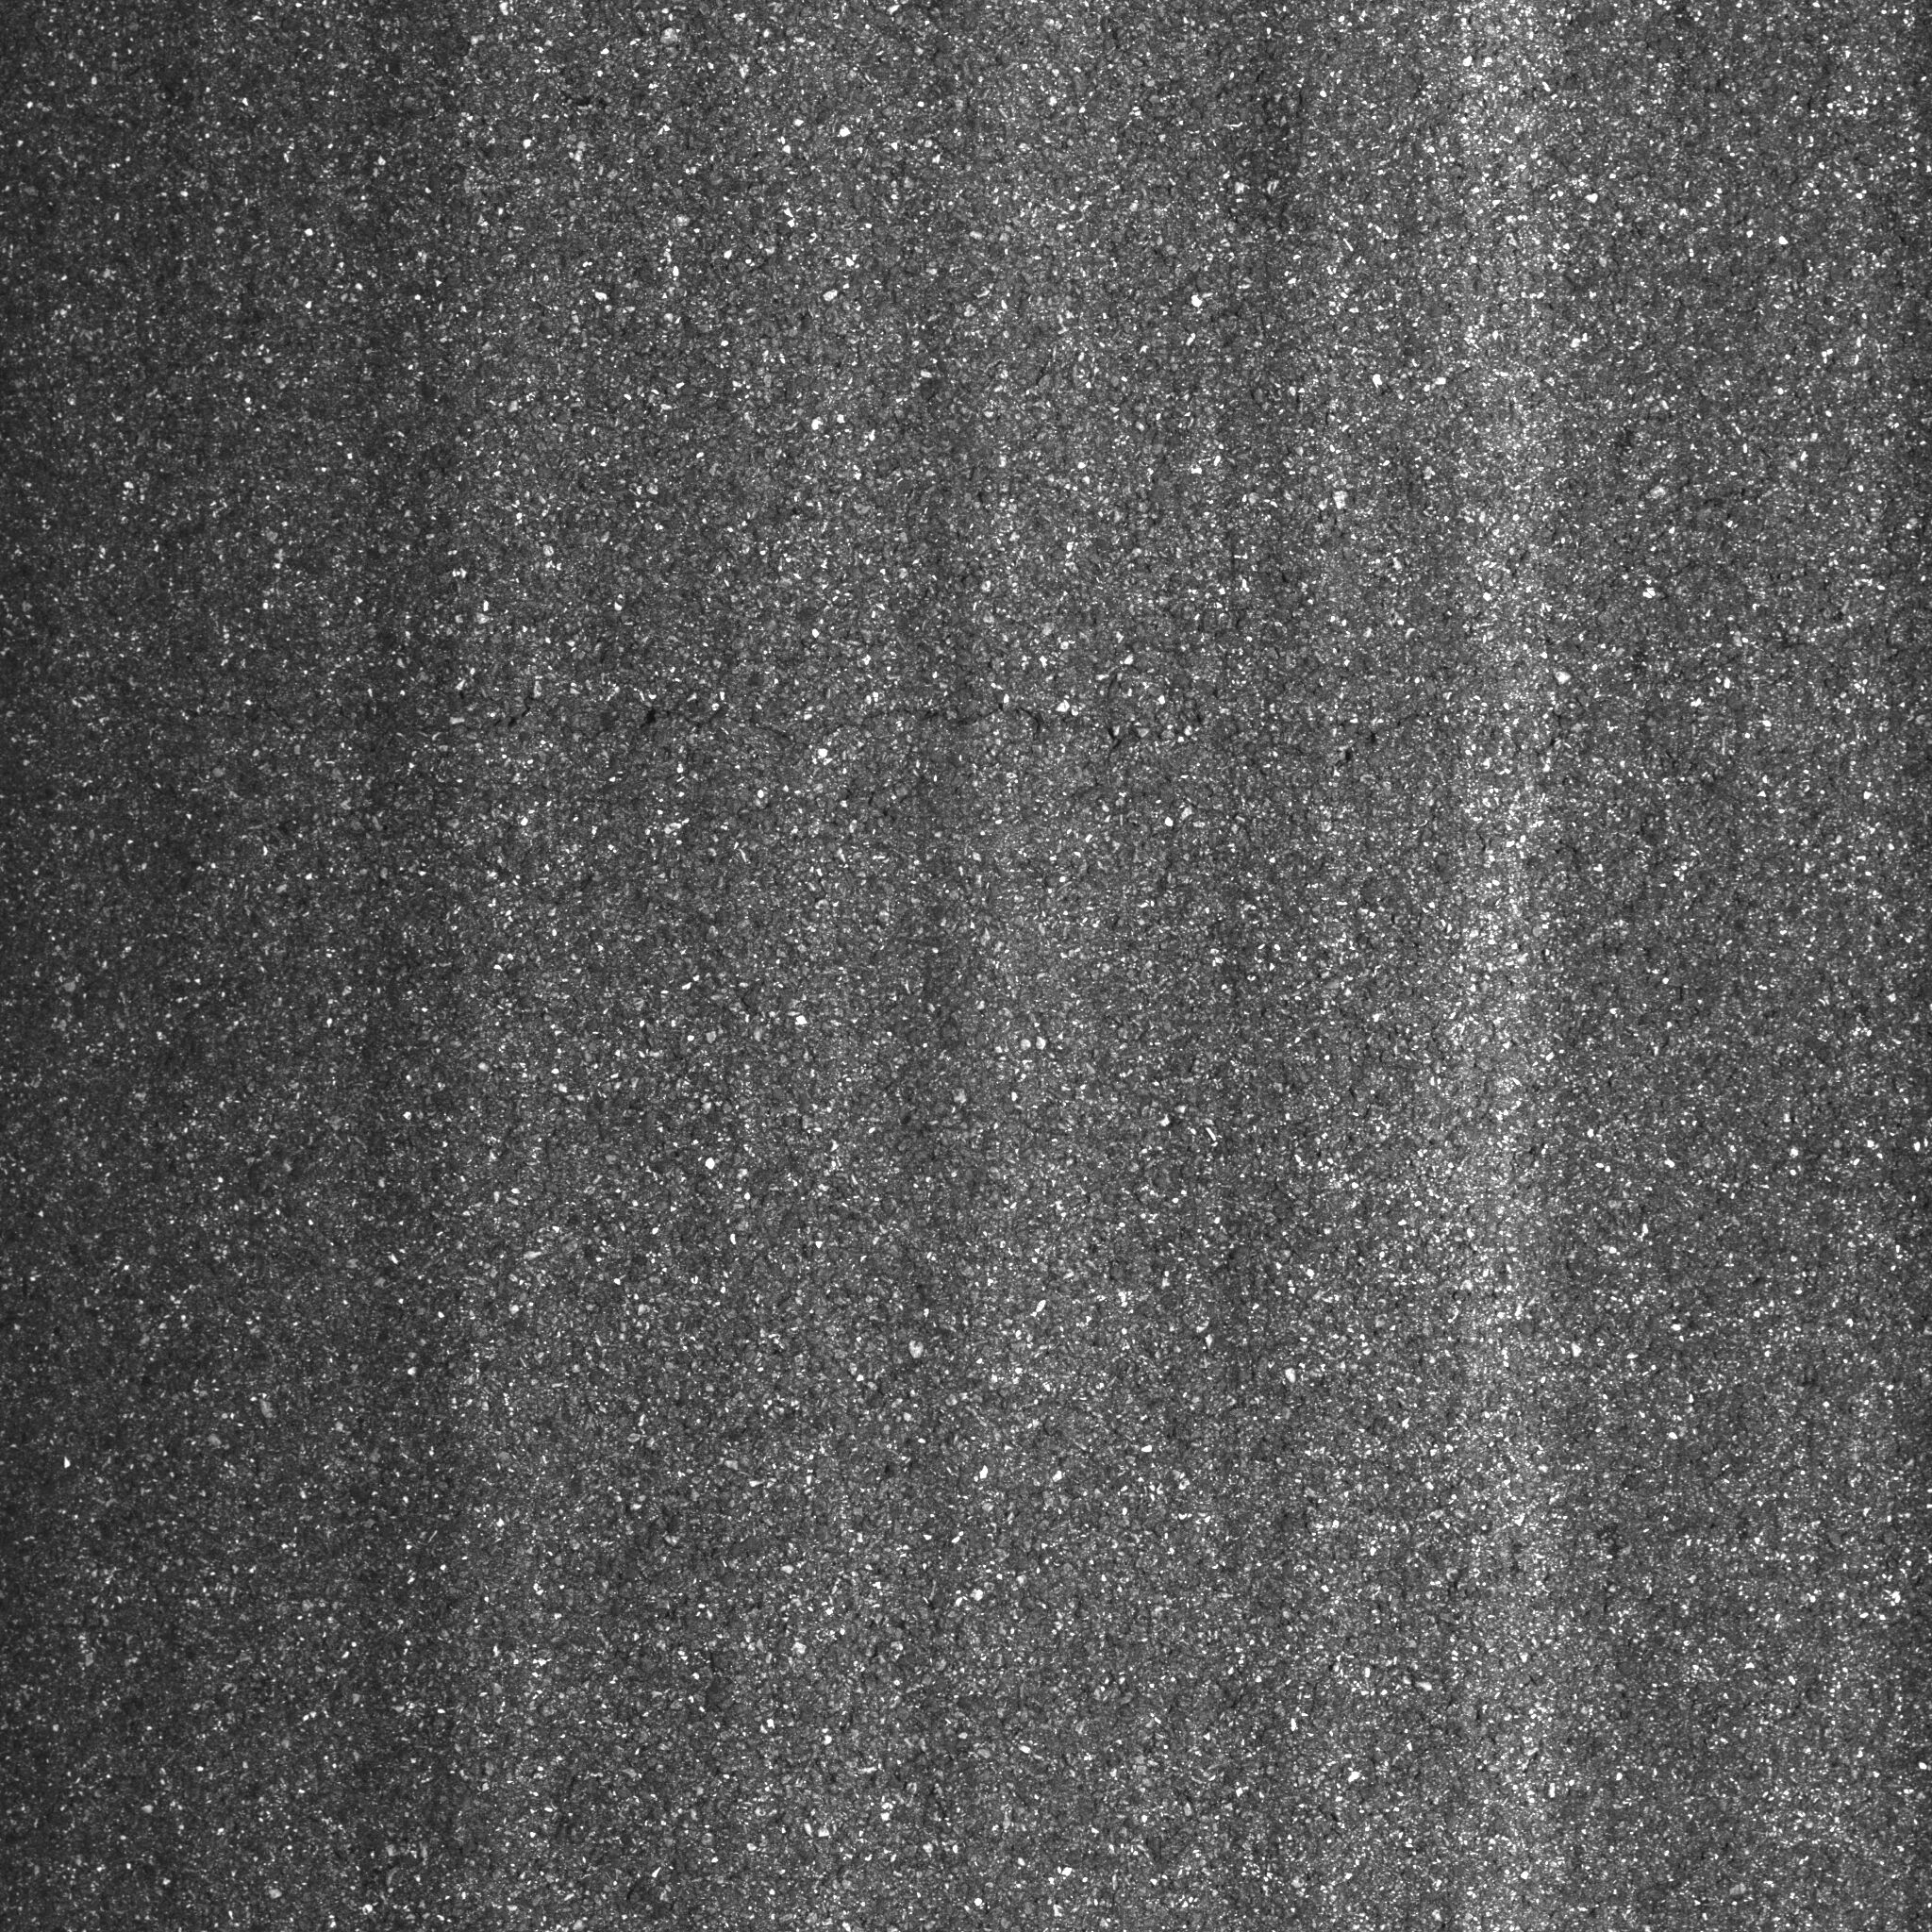transverse: (188, 607, 1472, 839)
